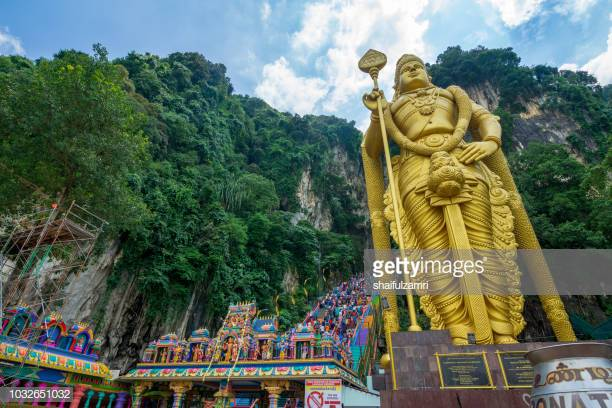Hindu Temple: (346, 46, 549, 343)
